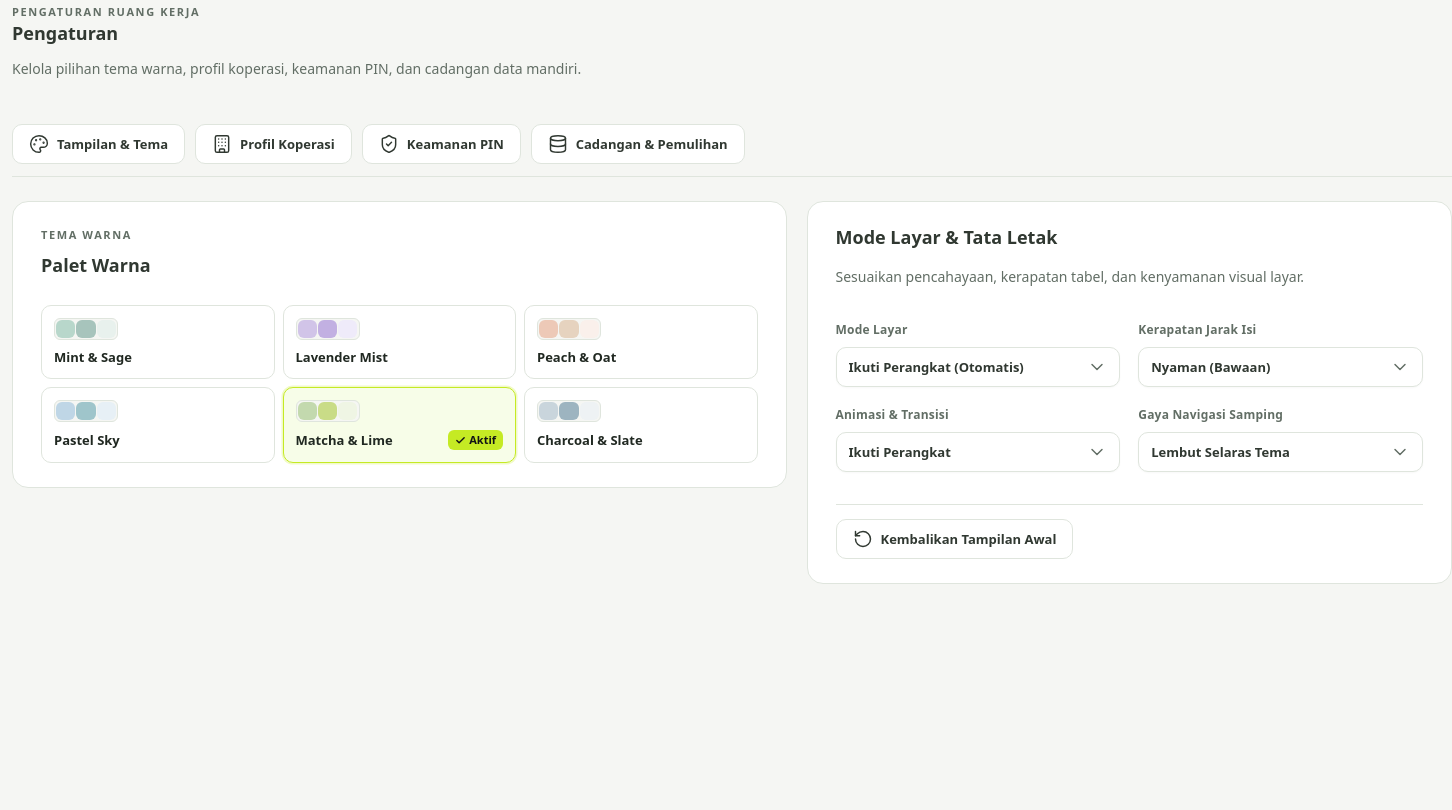
Test: pengaturan menampilkan identitas profil yang tersimpan
Click the tab "Profil Koperasi" at (273, 144), box [195,124,352,164]
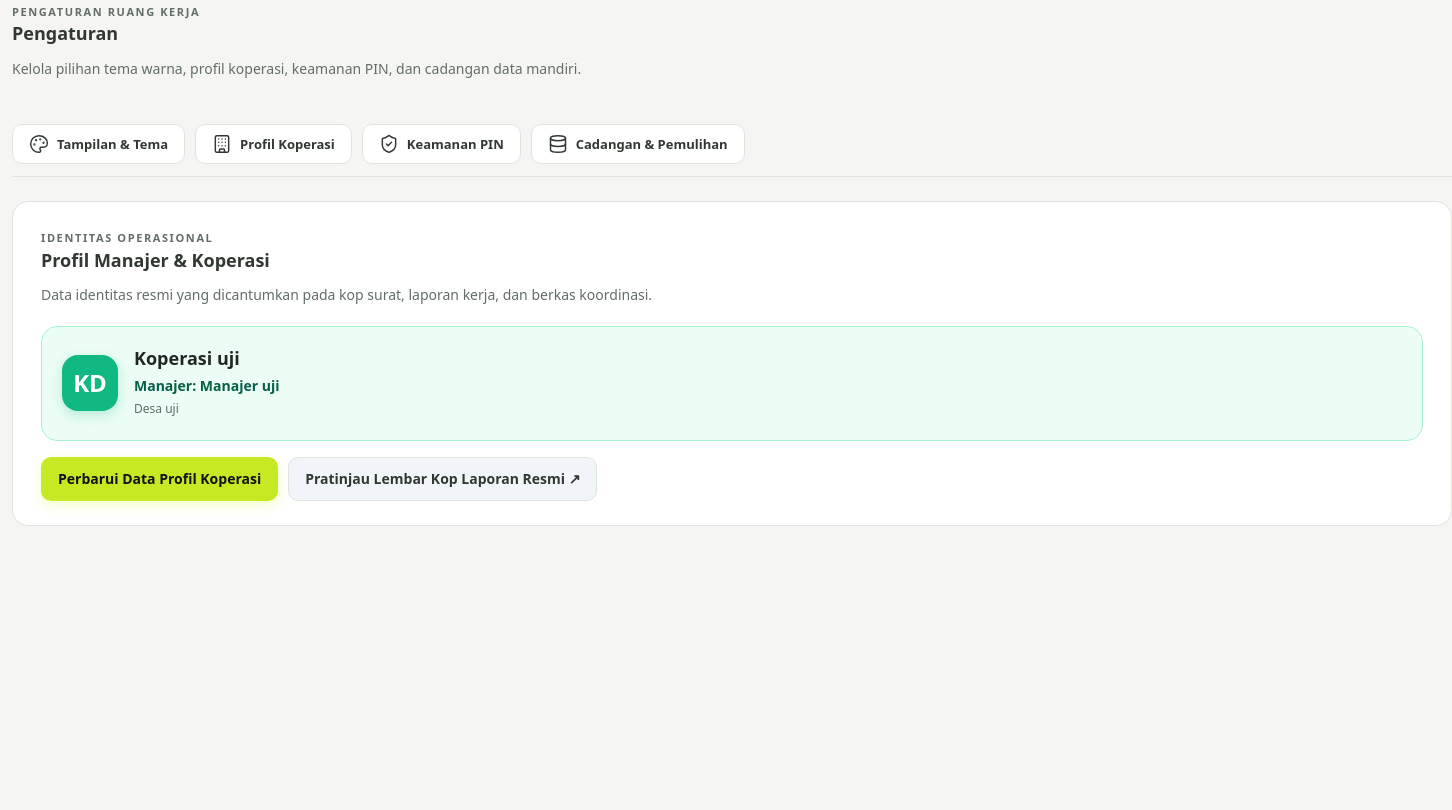
Expected: the heading "Koperasi uji" is shown, [134,346,240,370]
Expected: the text "Manajer: Manajer uji" is shown, [134,375,279,397]
Expected: the text "Desa uji" is shown, [134,400,179,417]
